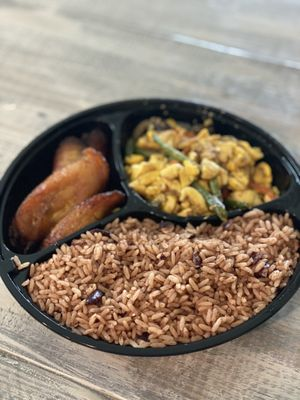salad: (5, 189, 125, 283)
sushi: (1, 90, 299, 358), (1, 98, 300, 285), (9, 99, 300, 233)
